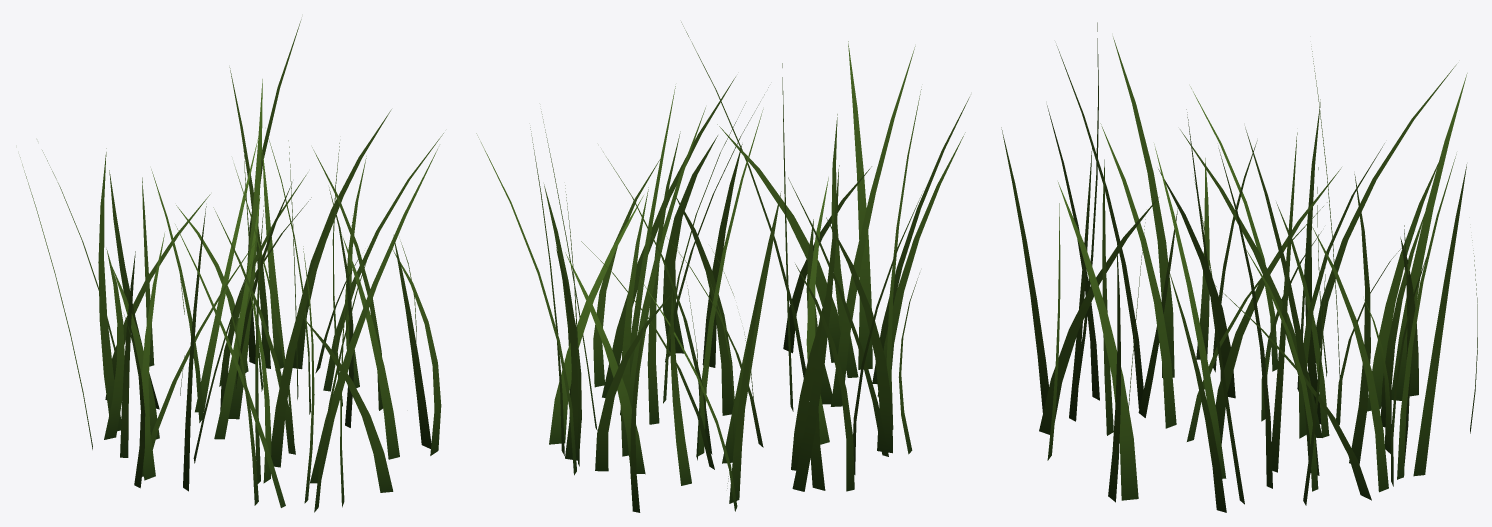
Rendered from tuft_2_lod0.glb.
3 renders of one model, left to right at view 1: azimuth 30°, elevation 25°; view 2: azimuth 150°, elevation 25°; view 3: azimuth 270°, elevation 25°, orthographic. The views are drawn at different scales.
Parts seen in each view (by area): view 1: GrassTuft_2_LOD0; view 2: GrassTuft_2_LOD0; view 3: GrassTuft_2_LOD0.
Part boxes in pixels (left/top/right/bottom): GrassTuft_2_LOD0: left=20, top=19, right=443, bottom=512; GrassTuft_2_LOD0: left=476, top=22, right=969, bottom=512; GrassTuft_2_LOD0: left=1001, top=22, right=1477, bottom=512.
Size of the model in its own units: 0.3218 by 0.2872 by 0.3502.
